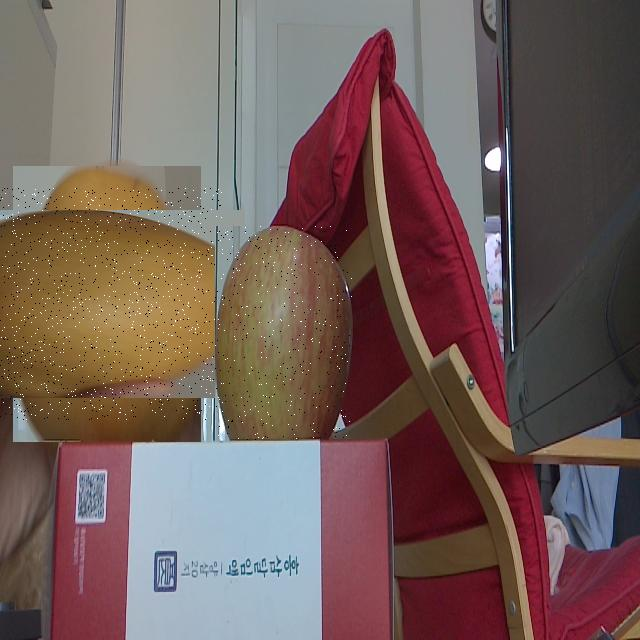apple: (215, 226, 352, 440)
pear: (0, 188, 223, 420)
